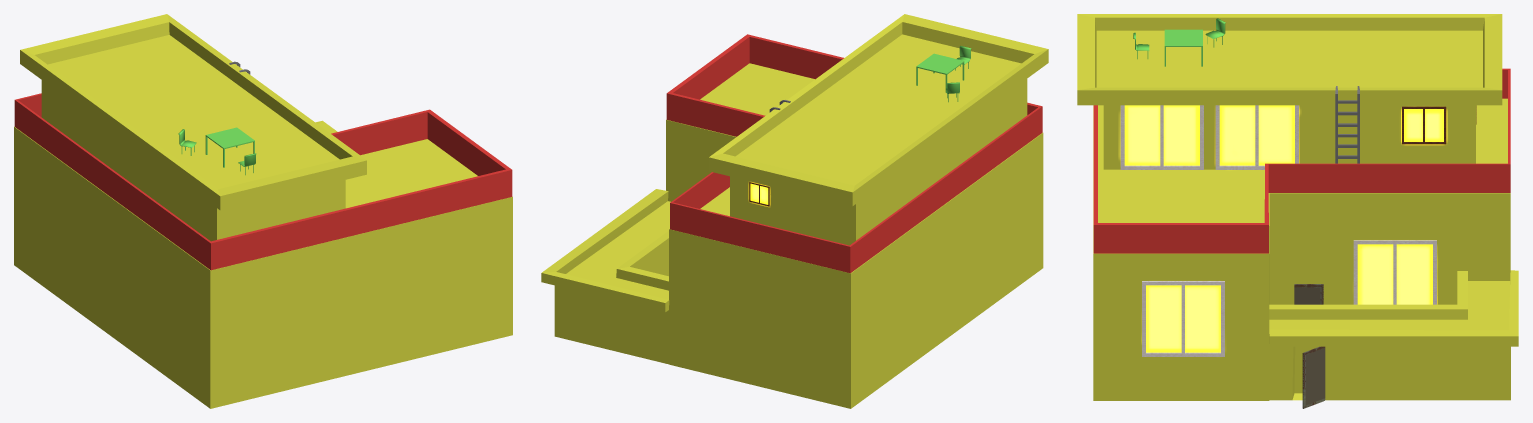
The model's file is дом не запак.fbx.
3 views of the same model, side by side, from view 1: azimuth 30°, elevation 25°; view 2: azimuth 150°, elevation 25°; view 3: azimuth 270°, elevation 25° (orthographic). The views are drawn at different scales.
Parts seen in each view (by area): view 1: дом; view 2: дом; view 3: дом.
Part boxes in pixels (<box>): дом: <box>14,14,512,408</box>; дом: <box>541,14,1048,408</box>; дом: <box>1077,14,1518,408</box>.
Bounding box in the file's own units: 1256 × 850 × 1419.
